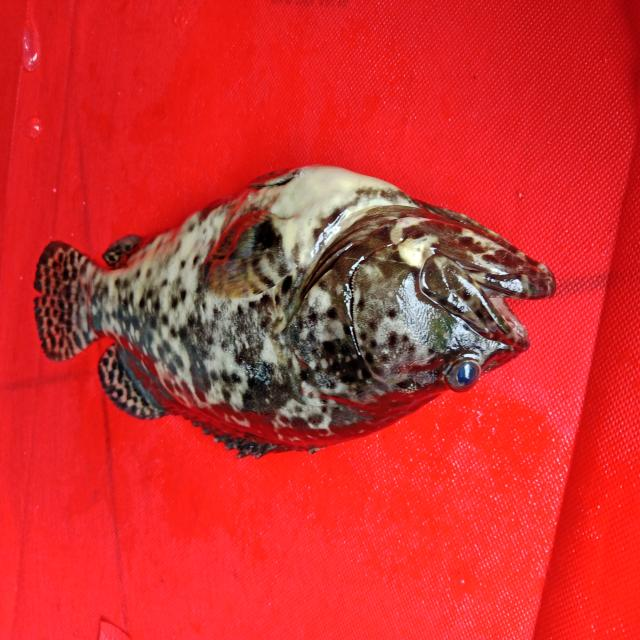ikan: (22, 128, 572, 472)
